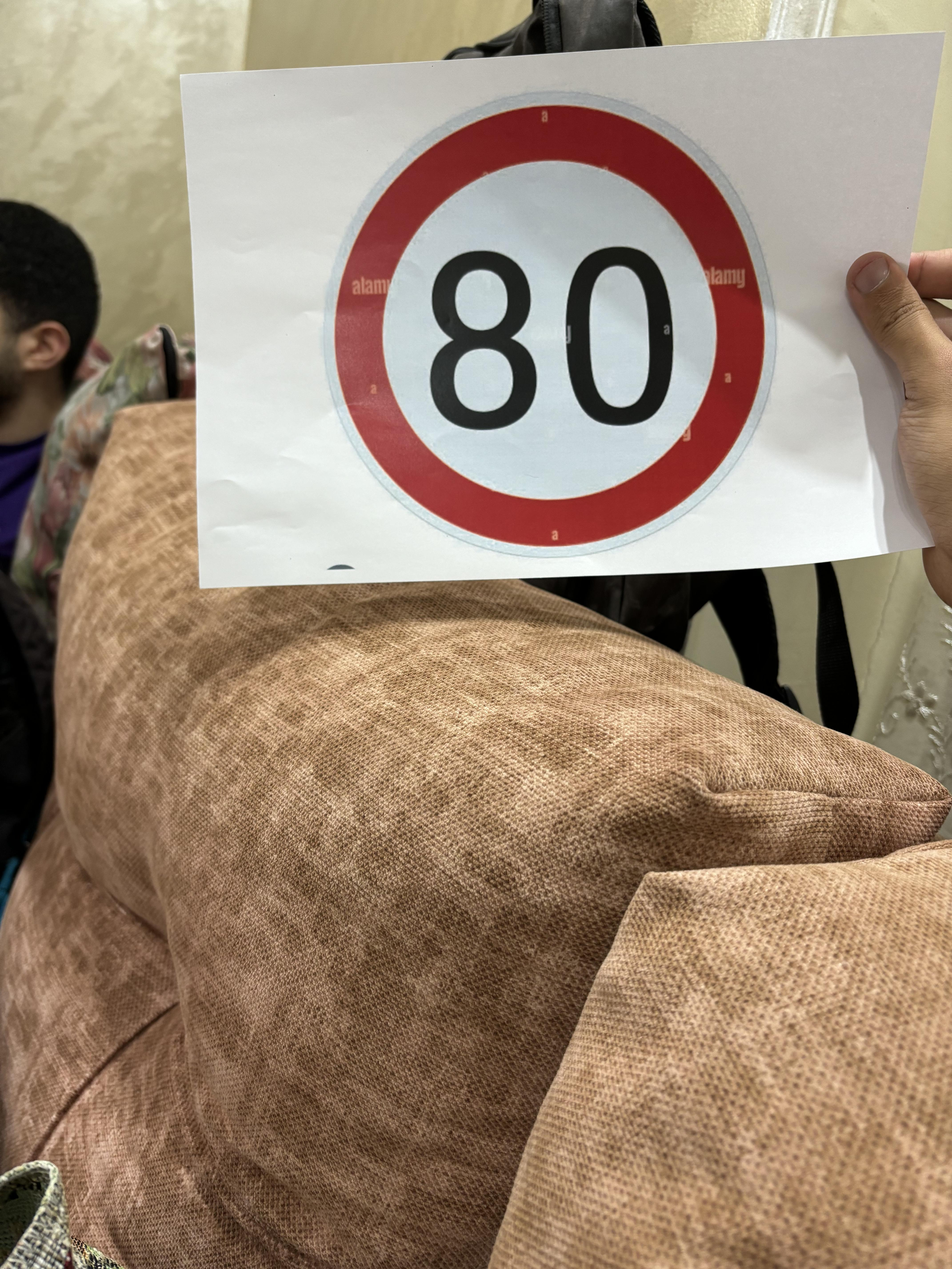80-Speed: (312, 94, 779, 552)
